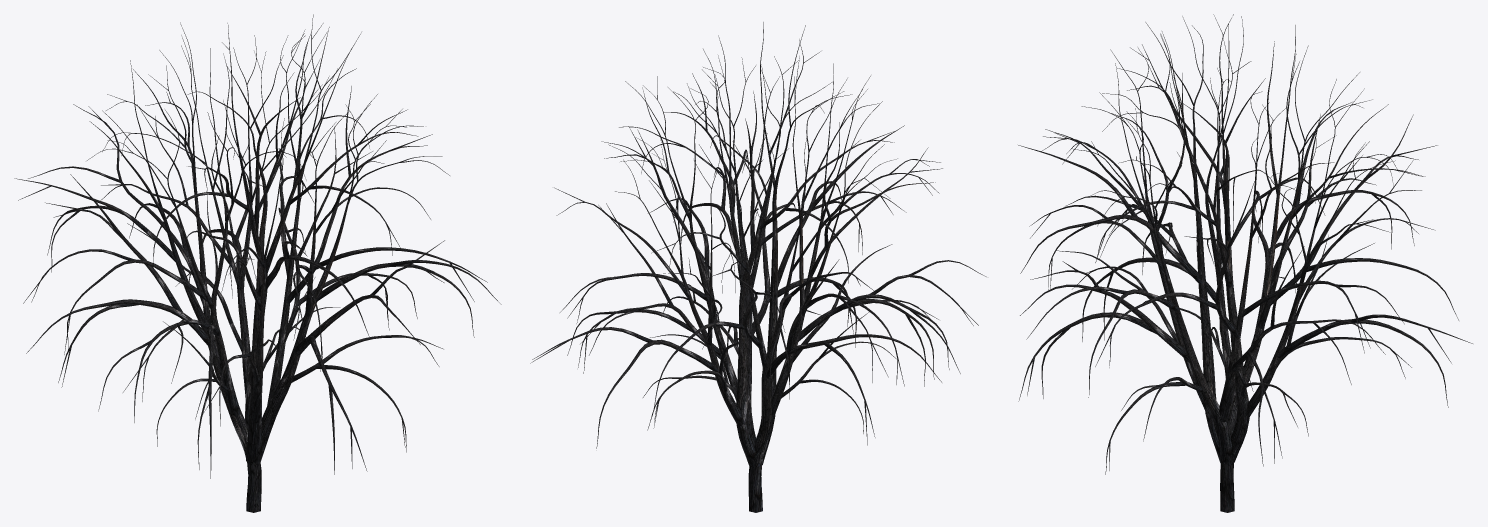
Rendered from BlackTree.obj.
3 renders of one model, left to right at view 1: azimuth 30°, elevation 25°; view 2: azimuth 150°, elevation 25°; view 3: azimuth 270°, elevation 25°, orthographic. The views are drawn at different scales.
Visible parts, largest first — view 1: tree_tree.001; view 2: tree_tree.001; view 3: tree_tree.001.
Boxes of the visible parts, left/top/right/bottom form: tree_tree.001: left=14, top=14, right=501, bottom=512; tree_tree.001: left=530, top=22, right=986, bottom=512; tree_tree.001: left=1018, top=14, right=1472, bottom=512.
Size of the model in its own units: 5.41 by 6.48 by 5.47.
